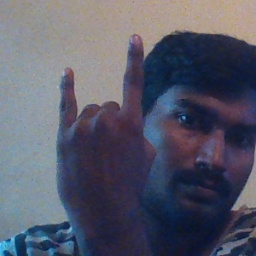V: (58, 31, 164, 212)
